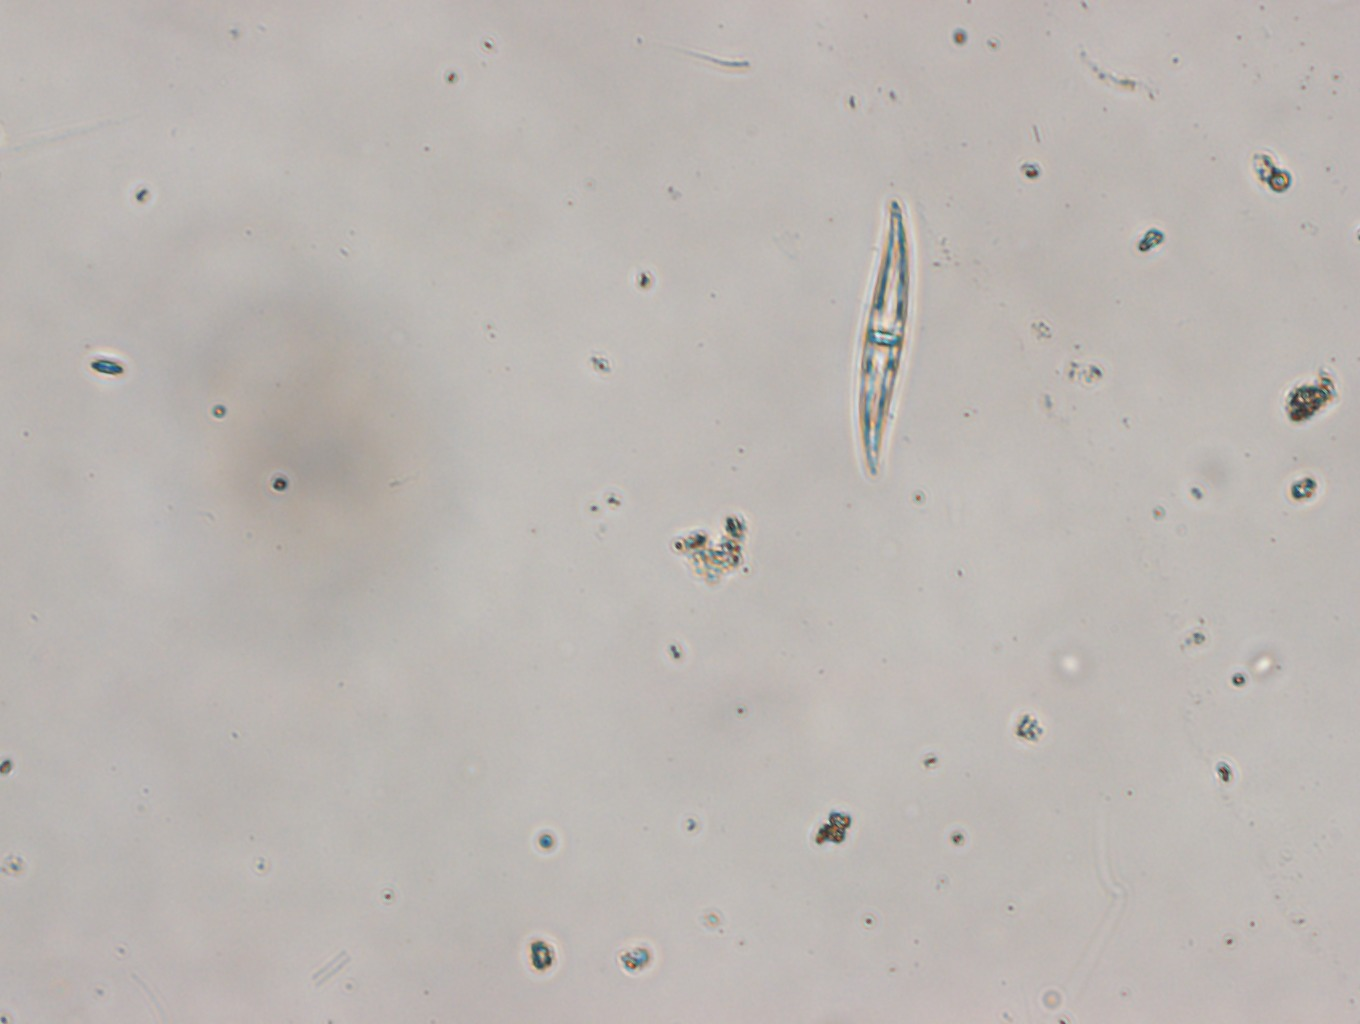pleurosigma pelagicum: (829, 197, 943, 482)
